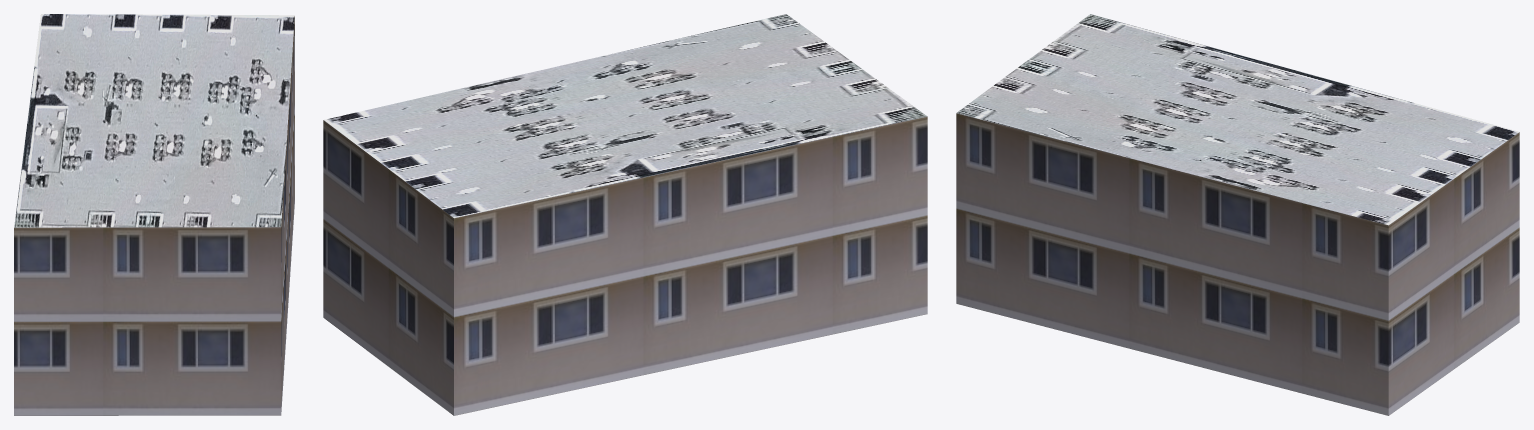
Rendered from ResTex__3213.fbx.
The picture shows the model from 3 angles, left to right: view 1: azimuth 30°, elevation 25°; view 2: azimuth 150°, elevation 25°; view 3: azimuth 270°, elevation 25°; orthographic projection. The views are drawn at different scales.
Visible parts, largest first — view 1: CityEngineMaterial_4_m, CityEngineMaterial_21_m; view 2: CityEngineMaterial_21_m, CityEngineMaterial_4_m; view 3: CityEngineMaterial_21_m, CityEngineMaterial_4_m.
Boxes of the visible parts, x1=… form: CityEngineMaterial_4_m: x1=14, y1=14, x2=294, y2=227; CityEngineMaterial_21_m: x1=14, y1=16, x2=294, y2=415; CityEngineMaterial_21_m: x1=323, y1=116, x2=927, y2=415; CityEngineMaterial_4_m: x1=324, y1=14, x2=926, y2=217; CityEngineMaterial_21_m: x1=956, y1=113, x2=1519, y2=415; CityEngineMaterial_4_m: x1=956, y1=14, x2=1518, y2=225.
Size of the model in its own units: 14.27 by 6 by 16.07.
2 materials, 2 textured.
